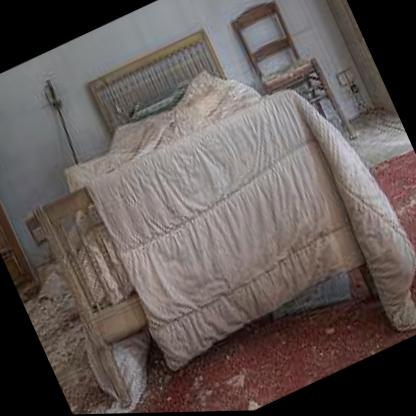Bed: (0, 0, 402, 409)
Chair: (227, 0, 359, 169)
